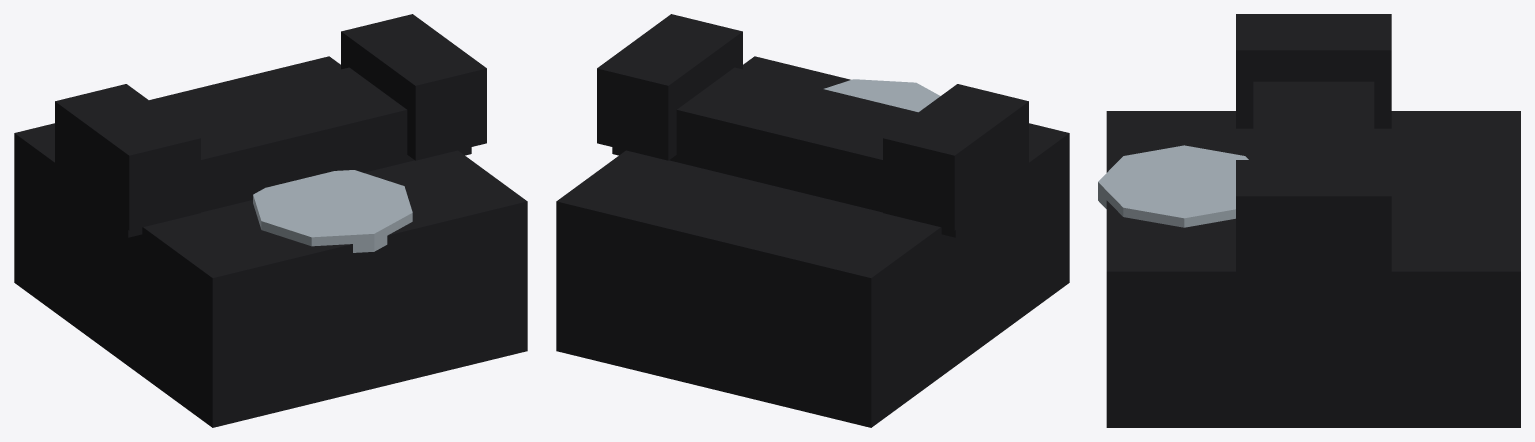
File: GE_LandlinePhone_01.glb
3 renders of one model, left to right at view 1: azimuth 30°, elevation 25°; view 2: azimuth 150°, elevation 25°; view 3: azimuth 270°, elevation 25°, orthographic. The views are drawn at different scales.
Parts seen in each view (by area): view 1: GE_LandlinePhone_01; view 2: GE_LandlinePhone_01; view 3: GE_LandlinePhone_01.
Boxes of the visible parts, x1,y1,x2,y2 form: GE_LandlinePhone_01: [14, 14, 527, 427]; GE_LandlinePhone_01: [556, 14, 1069, 427]; GE_LandlinePhone_01: [1098, 14, 1520, 427].
Size of the model in its own units: 0.25 by 0.155 by 0.245.
Materials: 1 (1 with a texture image).
